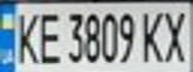0: (100, 9, 121, 64)
3: (60, 8, 84, 64)
8: (81, 8, 103, 64)
9: (118, 8, 139, 64)
E: (33, 8, 63, 65)
K: (9, 7, 42, 65), (136, 7, 169, 64)
X: (160, 6, 193, 64)
